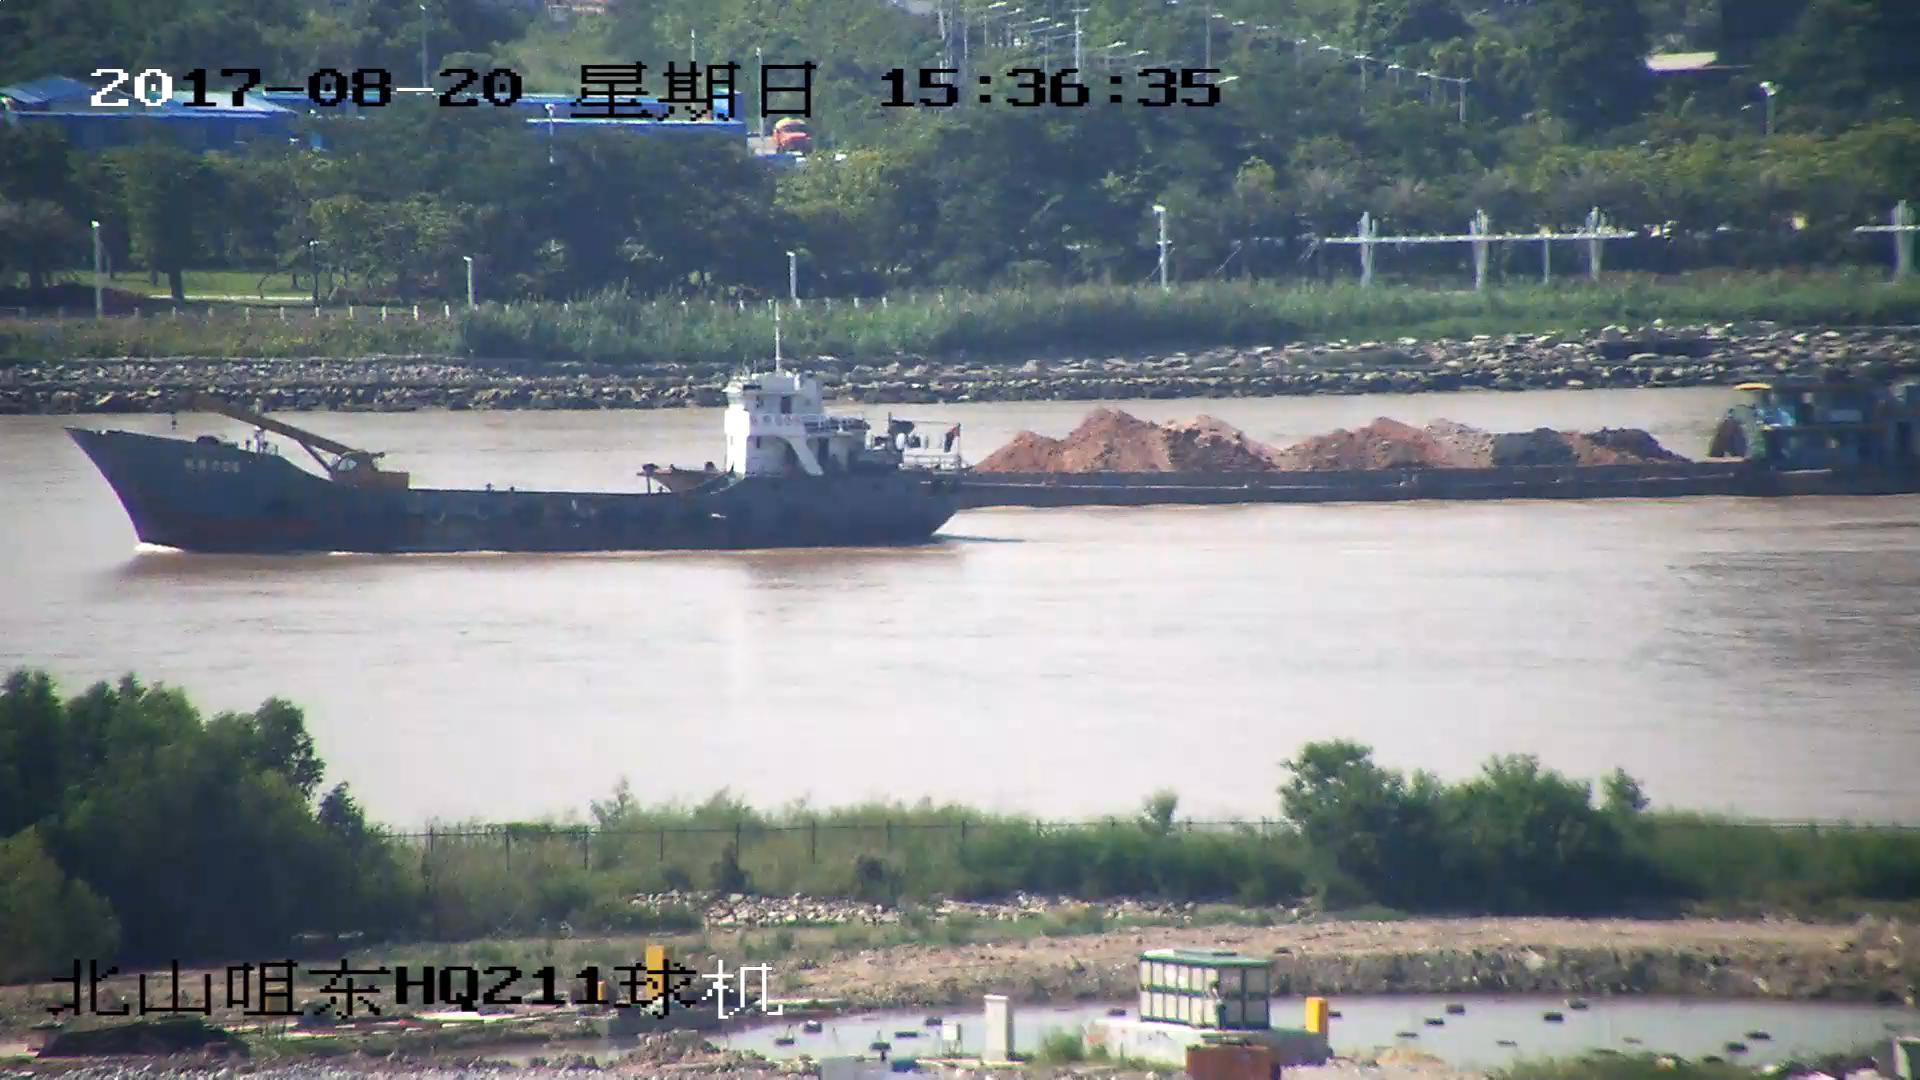Ship: (66, 319, 971, 555), (645, 375, 1920, 502)
